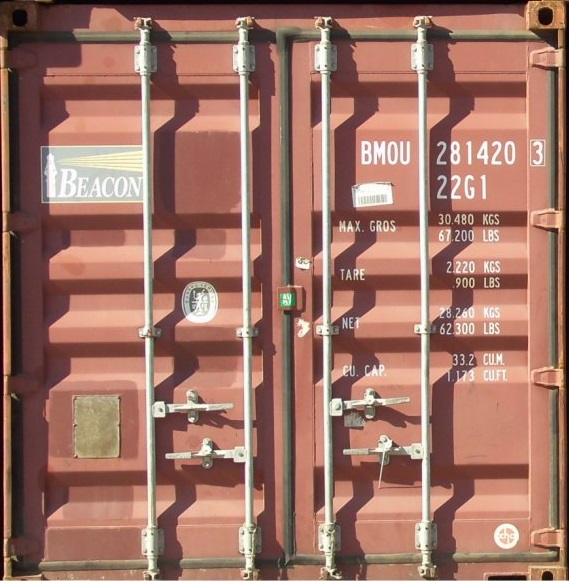container_door: (13, 11, 561, 569)
